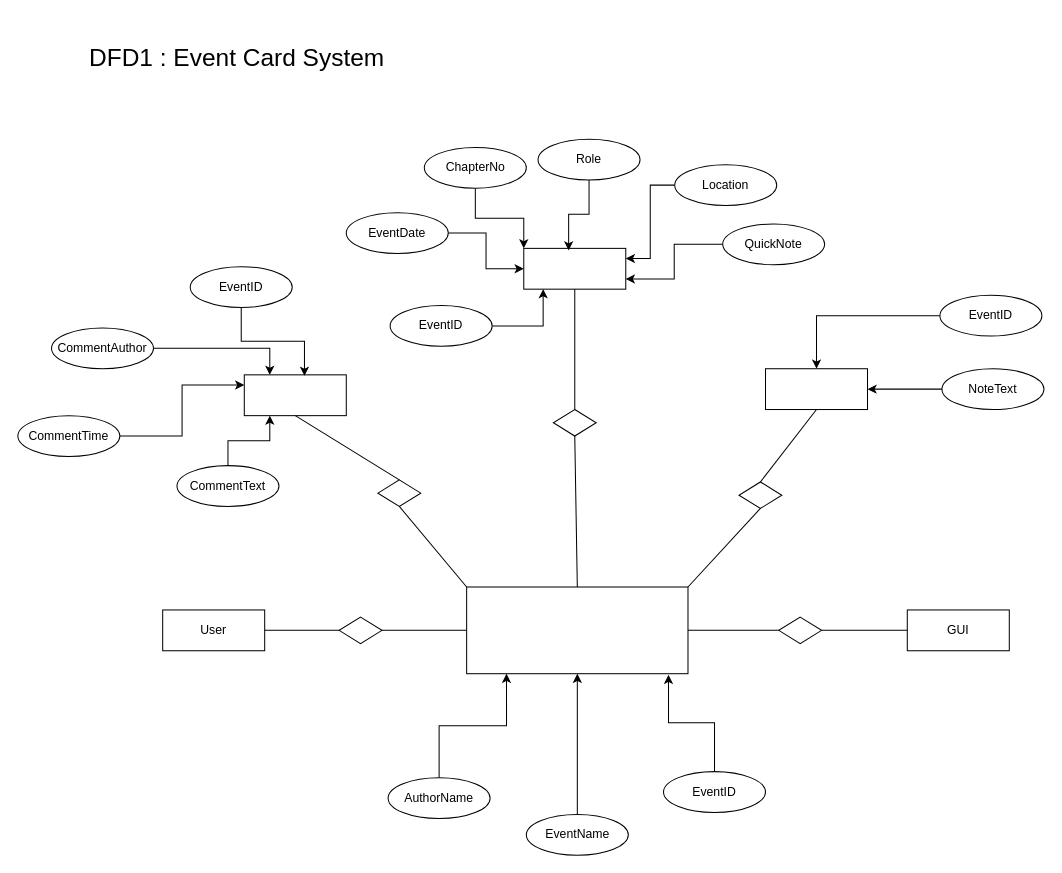
Some shapes in this 1062 by 873 pixel diagram are drawn without their labels. Here are the shapes that lost their labels. From the top down, the centre of each, then its label:
[574,268]: Event
[294,395]: Comment
[816,389]: Note
[577,630]: Event Card
